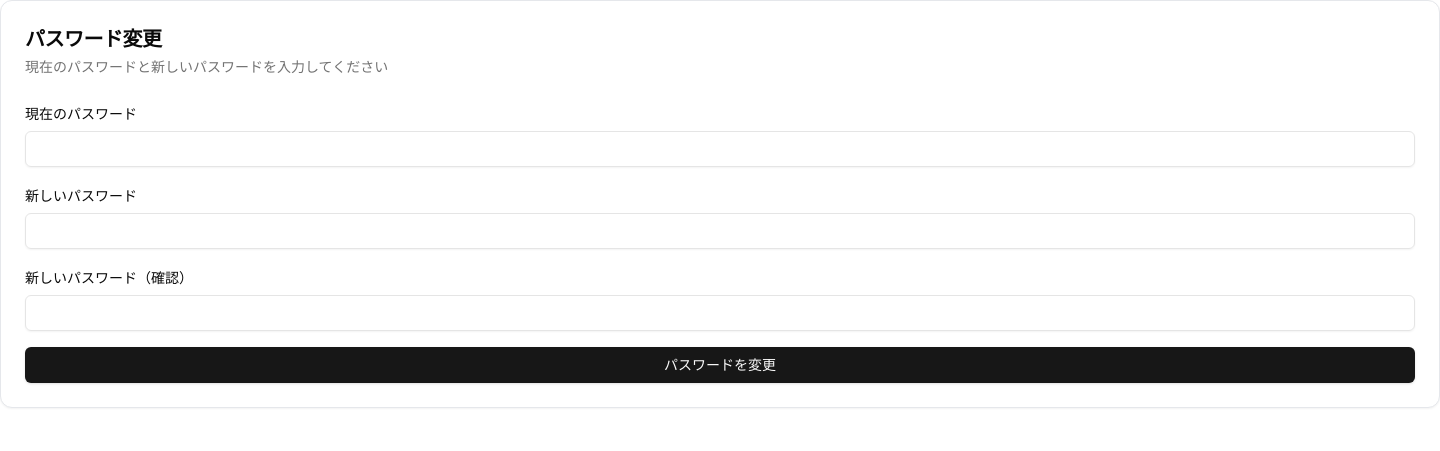
Test: ChangePasswordForm › 現在のパスワードが空の場合はバリデーションエラーが表示される
Type "NewPass12" into the password field labelled "新しいパスワード" at coordinates (720, 231), box [25, 213, 1415, 249]
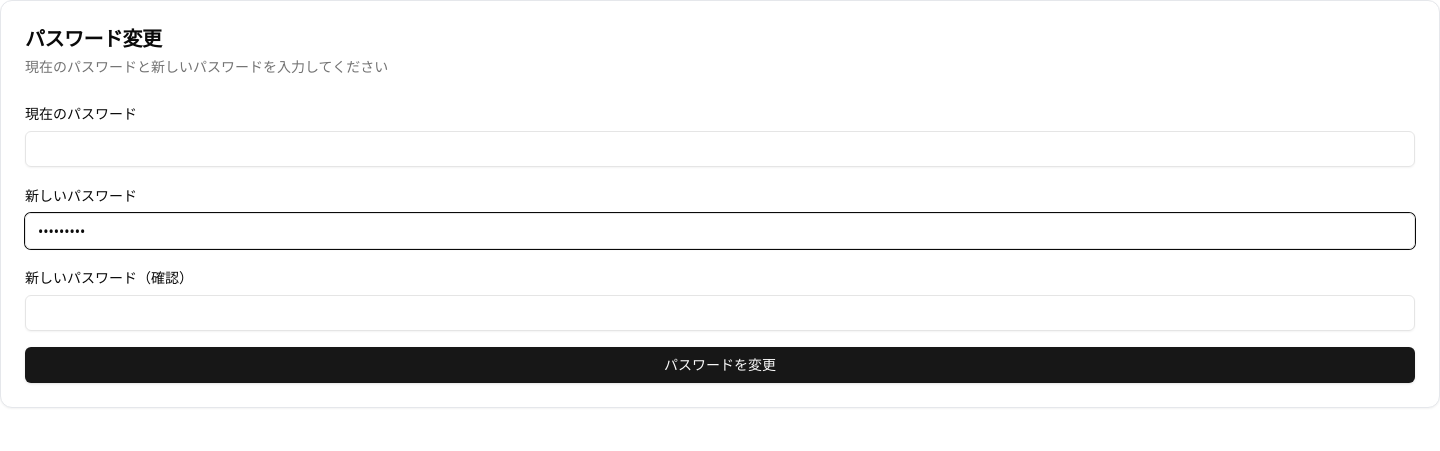
Type "NewPass12" into the password field labelled "新しいパスワード（確認）" at coordinates (720, 313), box [25, 295, 1415, 331]
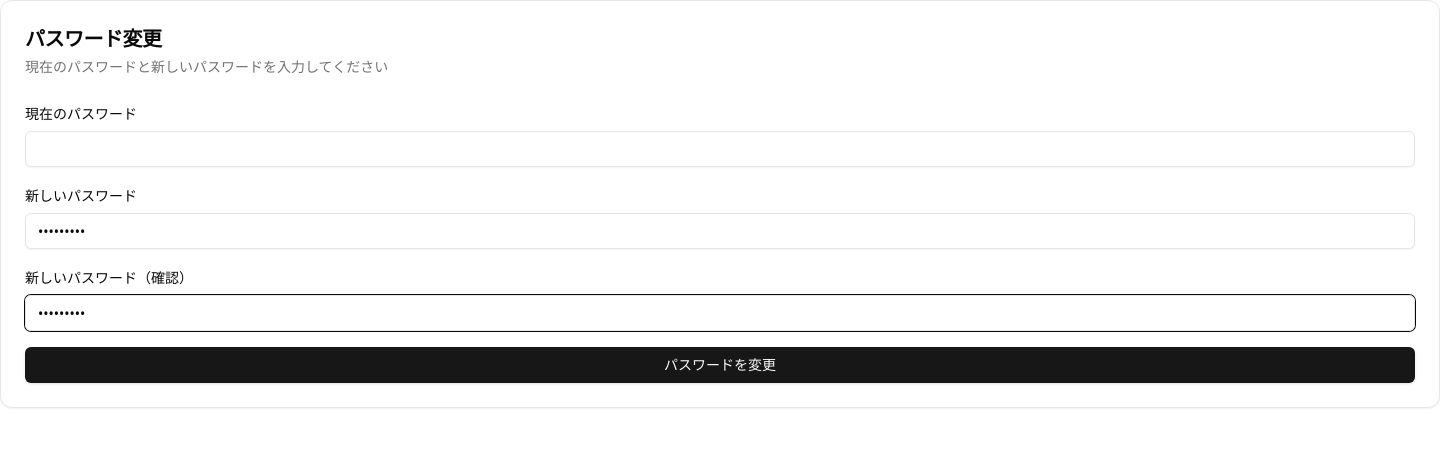
Click the button "パスワードを変更" at coordinates (720, 365), box [25, 347, 1415, 383]
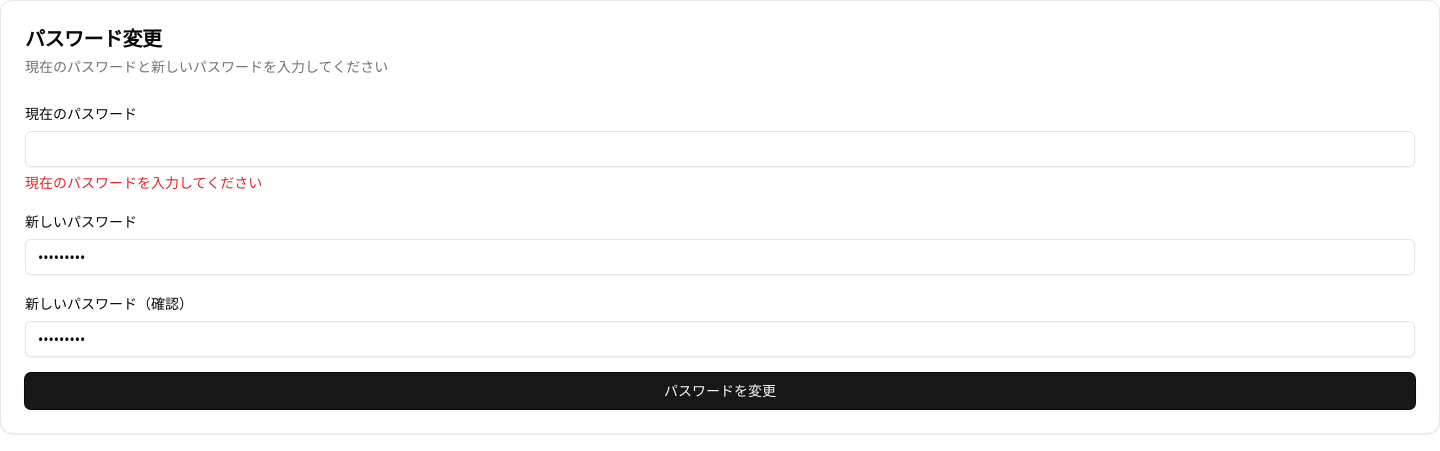
Expected: the text "現在のパスワードを入力してください" is shown, [25, 173, 262, 192]
